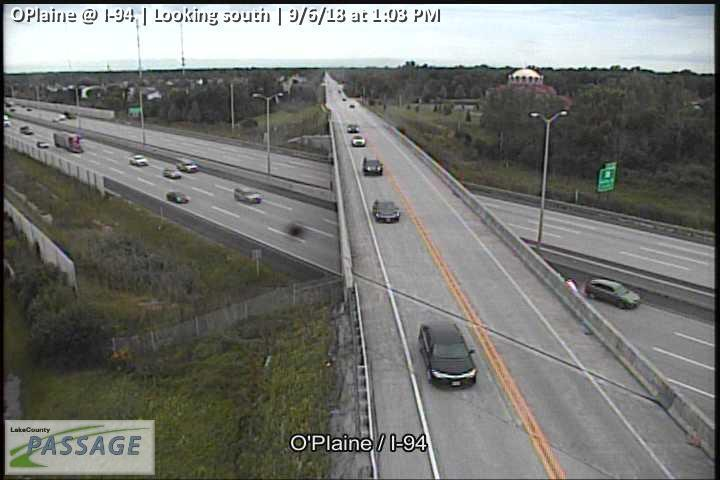SUV: (419, 323, 478, 389), (585, 278, 641, 310), (233, 187, 261, 202), (363, 156, 383, 175), (176, 157, 198, 173)
Sedan: (373, 199, 400, 223), (165, 191, 190, 202), (128, 154, 148, 166), (163, 167, 181, 178), (346, 123, 359, 134), (352, 134, 364, 145)
Truck: (53, 130, 83, 153)
